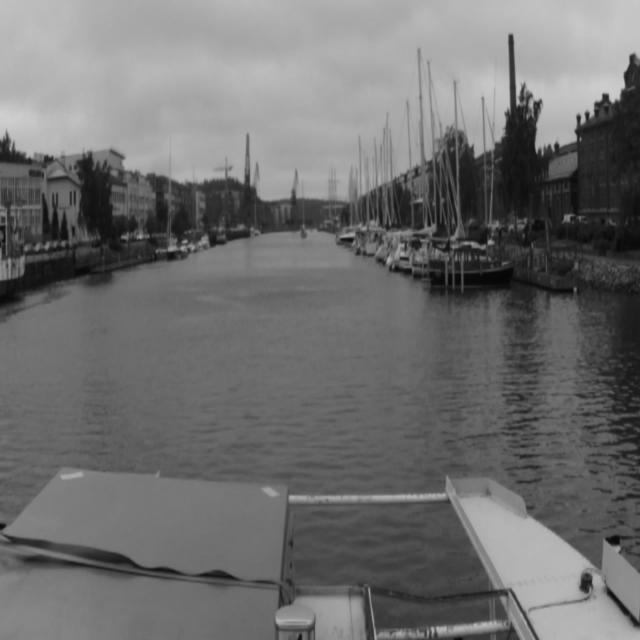ship: (412, 48, 492, 276), (153, 130, 187, 260), (429, 247, 511, 287), (187, 155, 204, 255), (299, 180, 307, 237), (250, 193, 260, 236), (217, 232, 227, 244), (202, 234, 210, 248), (180, 239, 187, 251)
